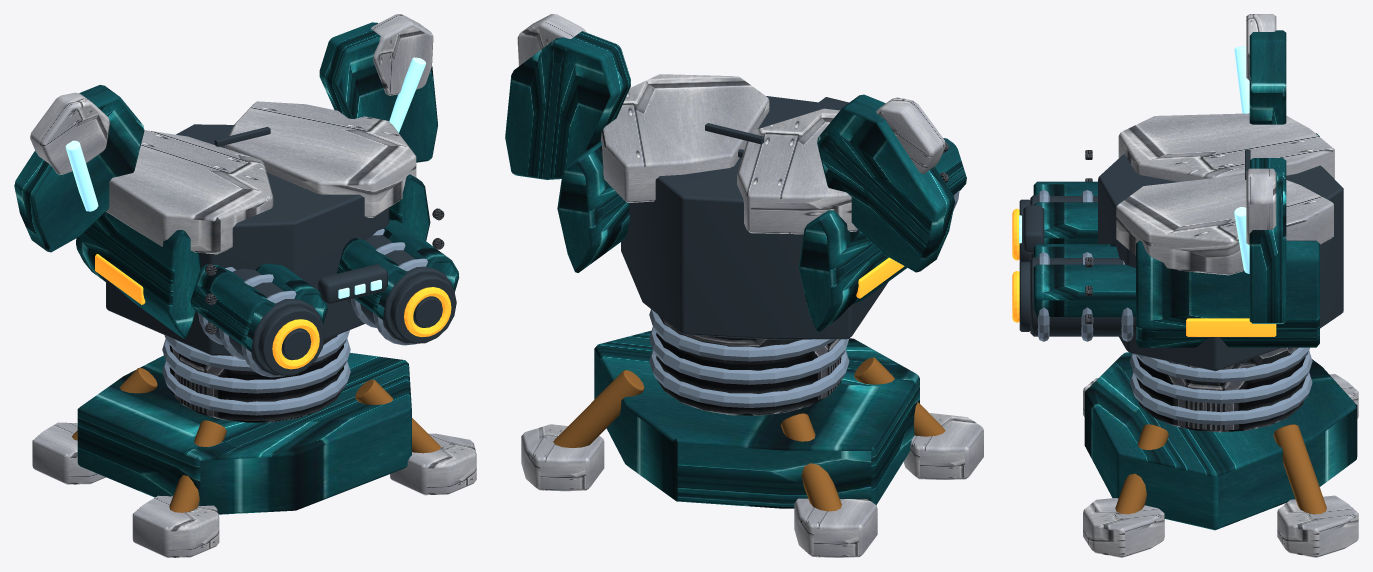
Rendered from sector_06_3.glb.
3 renders of one model, left to right at view 1: azimuth 30°, elevation 25°; view 2: azimuth 150°, elevation 25°; view 3: azimuth 270°, elevation 25°, orthographic. The views are drawn at different scales.
Parts seen in each view (by area): view 1: Turret hex anchor, Splayed planted foot, Sloped rotating gun mantle, Turntable bearing, Rotating actuator, Anchoring hydraulic, Muzzle lens ring, Navigation light; view 2: Turret hex anchor, Splayed planted foot, Sloped rotating gun mantle, Turntable bearing, Anchoring hydraulic, Rotating actuator, Muzzle lens ring; view 3: Turret hex anchor, Splayed planted foot, Sloped rotating gun mantle, Turntable bearing, Rotating actuator, Anchoring hydraulic, Muzzle lens ring, Navigation light.
Boxes of the visible parts, bbox=[...] form: Turret hex anchor: bbox=[14, 22, 459, 514]; Splayed planted foot: bbox=[30, 14, 476, 557]; Sloped rotating gun mantle: bbox=[106, 124, 456, 375]; Turntable bearing: bbox=[162, 229, 427, 415]; Rotating actuator: bbox=[169, 208, 444, 422]; Anchoring hydraulic: bbox=[72, 368, 441, 512]; Muzzle lens ring: bbox=[95, 254, 451, 369]; Navigation light: bbox=[65, 57, 426, 298]; Turret hex anchor: bbox=[505, 31, 966, 508]; Splayed planted foot: bbox=[517, 14, 983, 557]; Sloped rotating gun mantle: bbox=[621, 96, 888, 339]; Turntable bearing: bbox=[649, 190, 959, 407]; Anchoring hydraulic: bbox=[553, 357, 945, 511]; Rotating actuator: bbox=[656, 142, 948, 415]; Muzzle lens ring: bbox=[856, 257, 904, 298]; Turret hex anchor: bbox=[1033, 30, 1357, 530]; Splayed planted foot: bbox=[1083, 14, 1358, 557]; Sloped rotating gun mantle: bbox=[1019, 149, 1343, 371]; Turntable bearing: bbox=[1037, 190, 1312, 424]; Rotating actuator: bbox=[1085, 150, 1305, 432]; Anchoring hydraulic: bbox=[1115, 424, 1326, 514]; Muzzle lens ring: bbox=[1012, 208, 1276, 336]; Navigation light: bbox=[1019, 46, 1249, 273].
Bounding box in the file's own units: 1.37 × 1.28 × 1.03.
8 materials, 3 textured.
